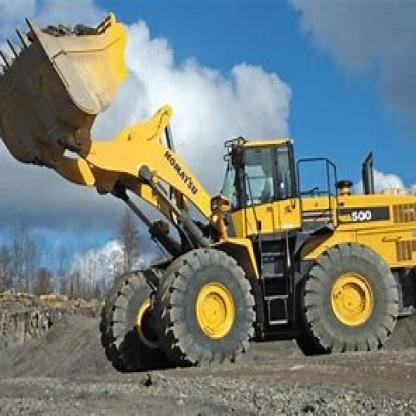bull_dozer/loader/grader: (0, 10, 415, 381)
